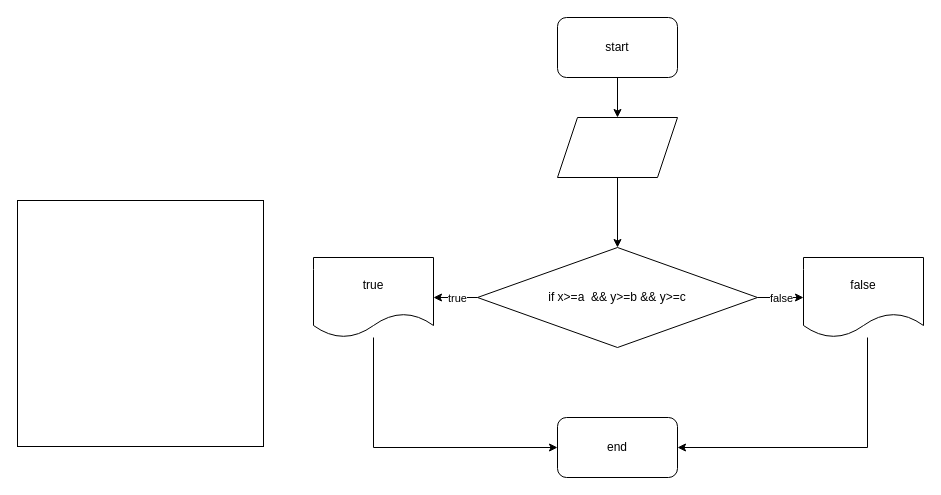
Image size: 941x495. Some labels were removed from this diagram. Each missing label, with the centre of its shape:
"DOOR width :x height :y wardrobe width:a height:b depth:c" goes at (x=140, y=323).
"door;x, y wardrobe;a,b,c" goes at (x=617, y=147).
